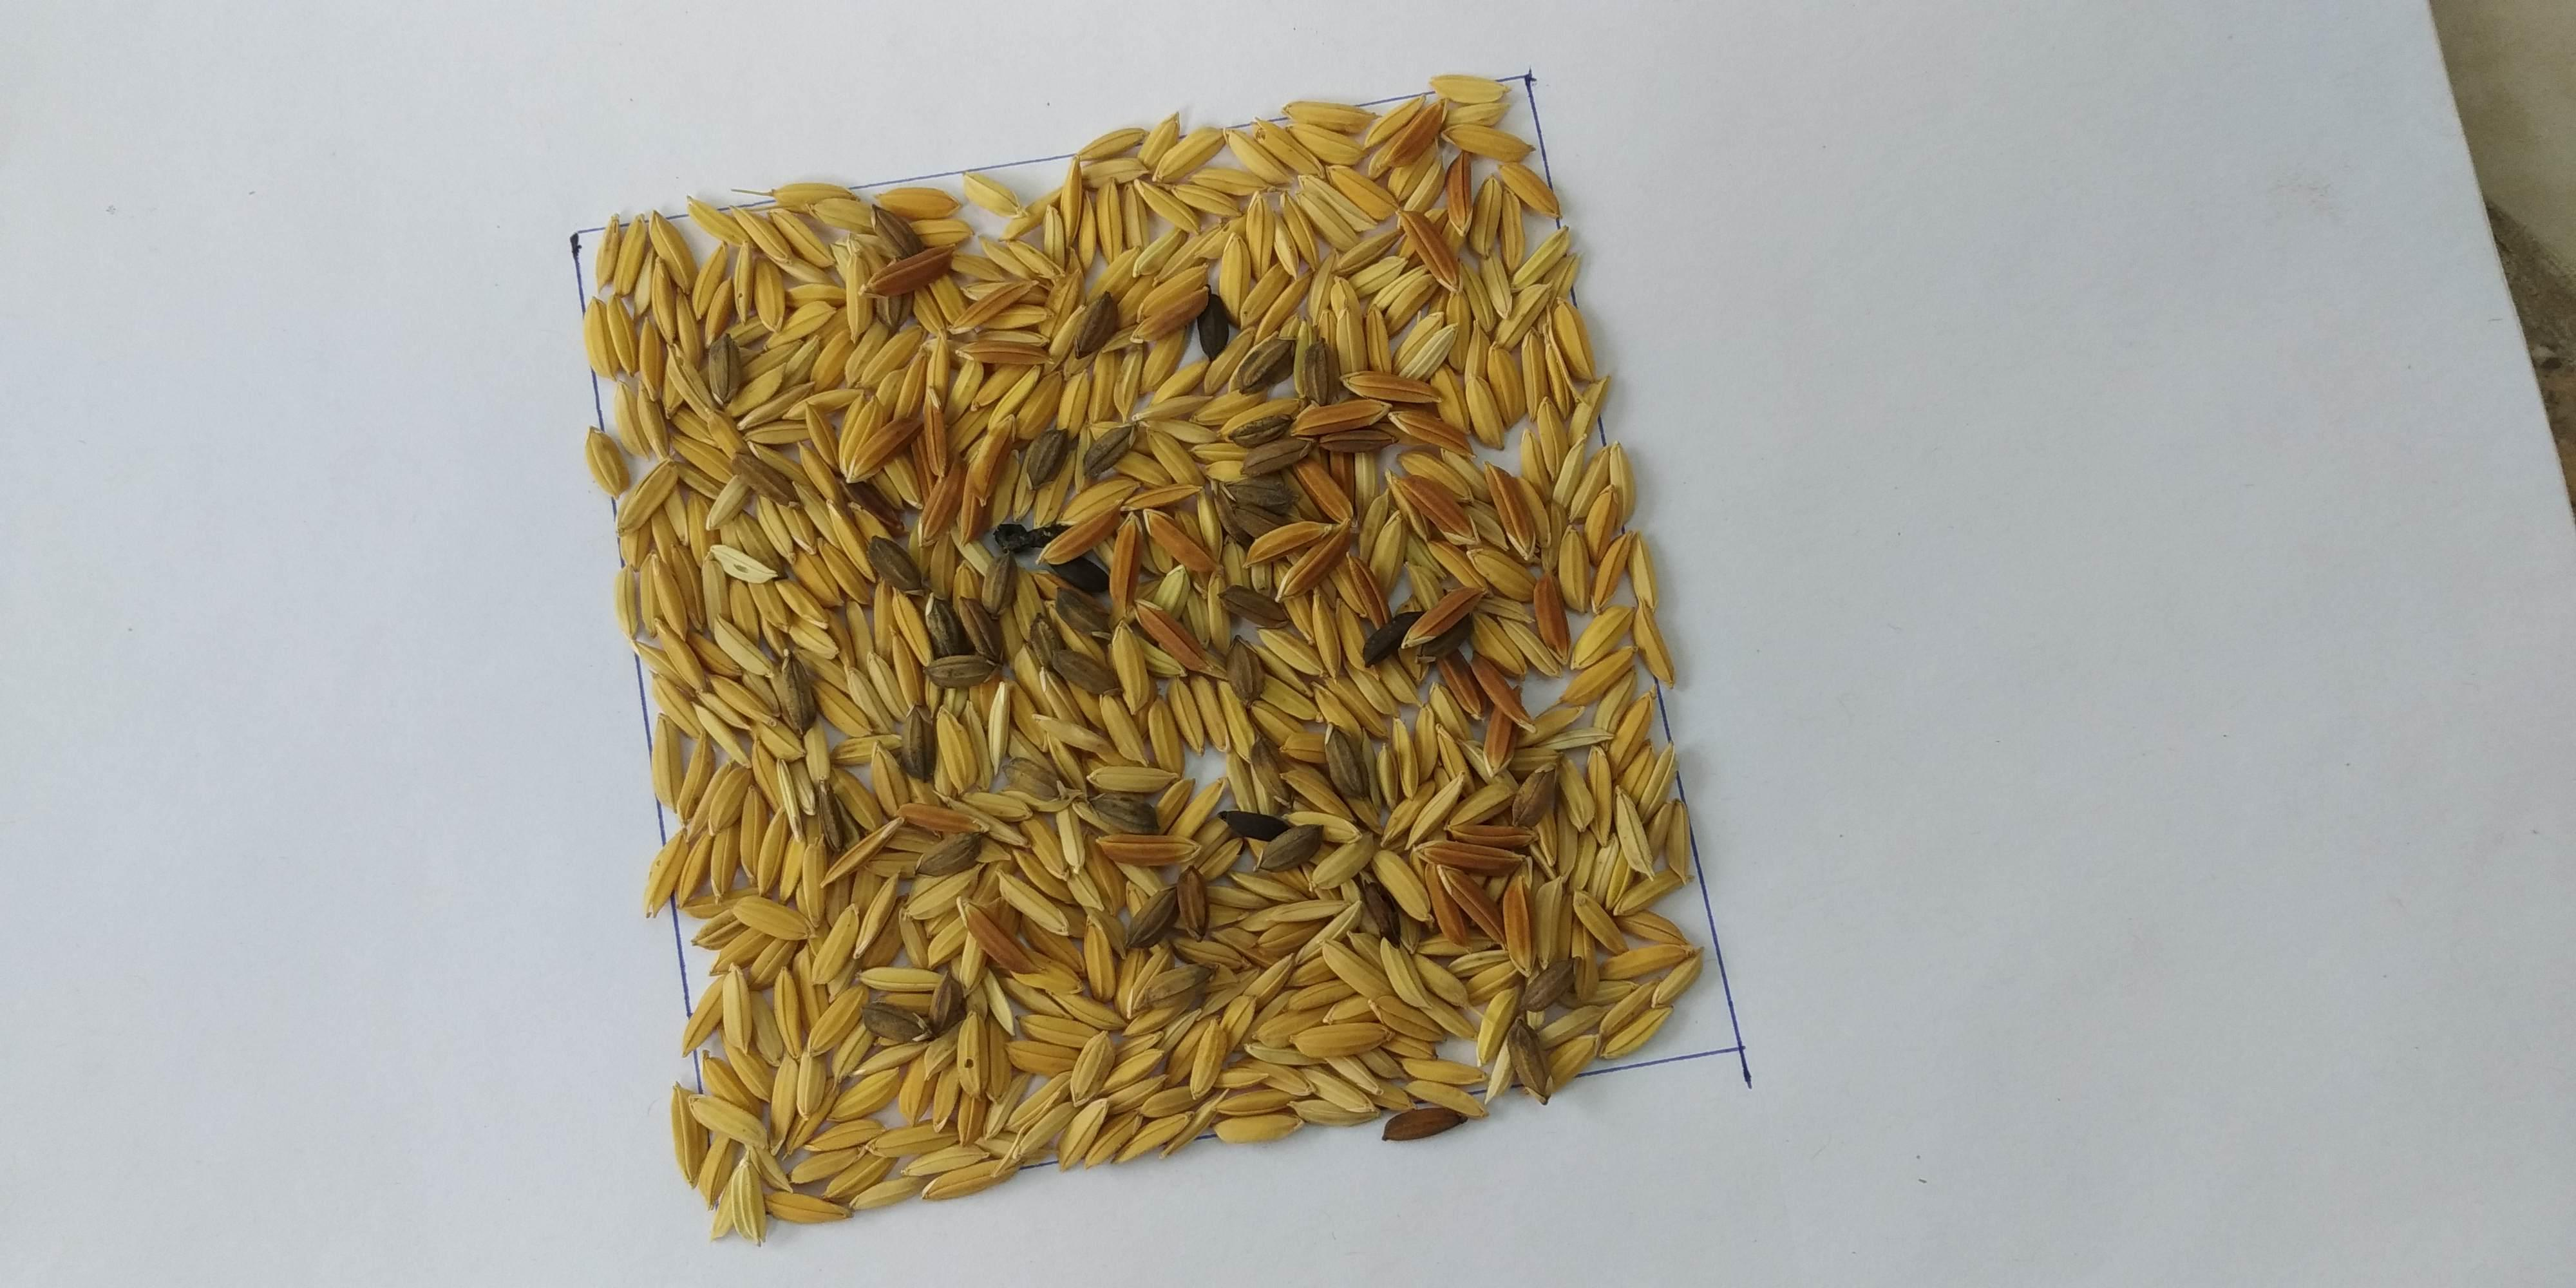impure: (698, 230, 1559, 1073)
